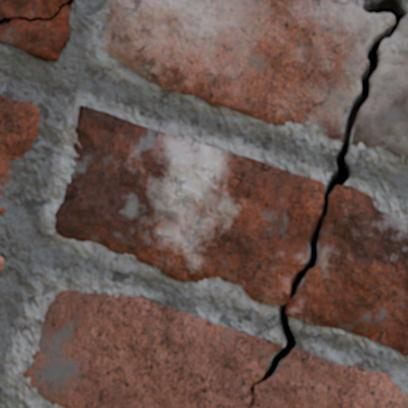brick: (0, 96, 39, 193), (0, 6, 70, 60), (0, 0, 65, 18), (0, 257, 3, 272), (0, 208, 5, 212)
broken_brick: (54, 105, 407, 356), (100, 0, 393, 141), (22, 289, 284, 407), (252, 347, 407, 407), (351, 16, 407, 158)
crack: (247, 0, 407, 407), (0, 0, 73, 25)
